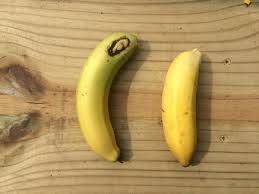banana: (74, 22, 144, 175), (158, 40, 212, 176)
